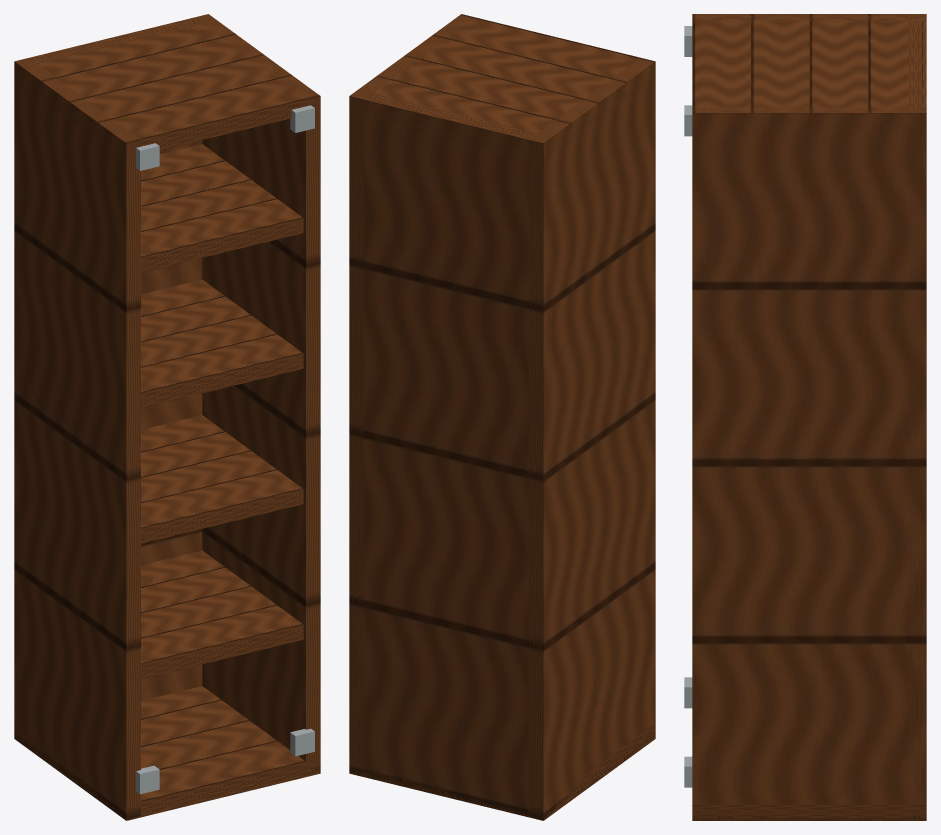
The model's file is suburban-outbreak-interiors-wardrobe-shelf-carcass-e9885d7e__19945.glb.
3 renders of one model, left to right at view 1: azimuth 30°, elevation 25°; view 2: azimuth 150°, elevation 25°; view 3: azimuth 270°, elevation 25°, orthographic. The views are drawn at different scales.
Parts seen in each view (by area): view 1: wardrobe-shelf-carcass; view 2: wardrobe-shelf-carcass; view 3: wardrobe-shelf-carcass.
Part boxes in pixels (left/top/right/bottom): wardrobe-shelf-carcass: left=14, top=14, right=320, bottom=820; wardrobe-shelf-carcass: left=349, top=14, right=655, bottom=820; wardrobe-shelf-carcass: left=684, top=14, right=926, bottom=820.
Size of the model in its own units: 0.5999 by 2 by 0.621.
2 materials, 1 textured.
